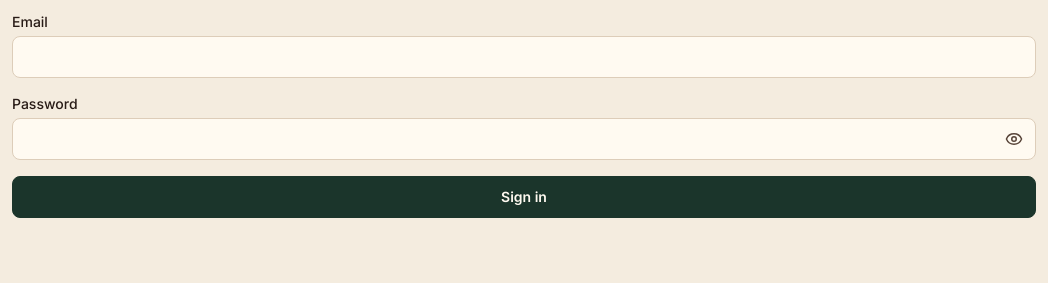
Test: editing the sign-in email clears only its field error
Submit the form "Sign in"
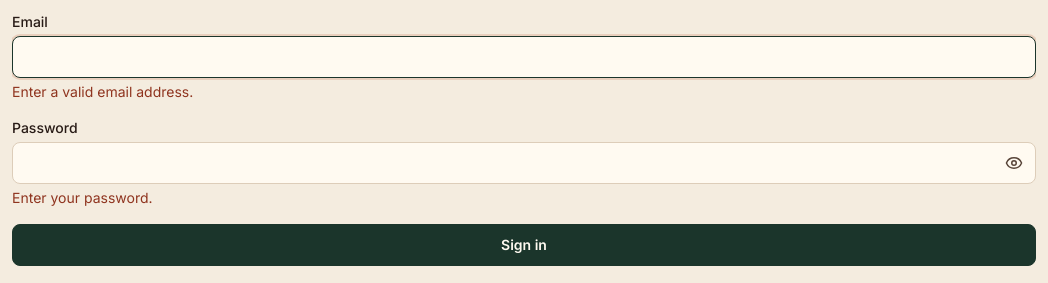
Check: the text "Enter a valid email address." is shown, box [12,83,193,100]
Check: the text "Enter your password." is shown, box [12,189,153,206]
In the field labelled "Email": (524, 57) [12,36,1036,78], type "member@example.com"
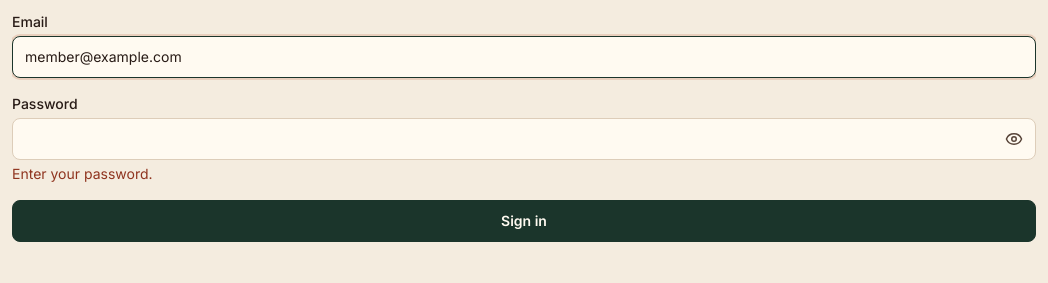
Check: the text "Enter your password." is shown, box [12,165,153,182]
Check: the text "Enter a valid email address." is gone
